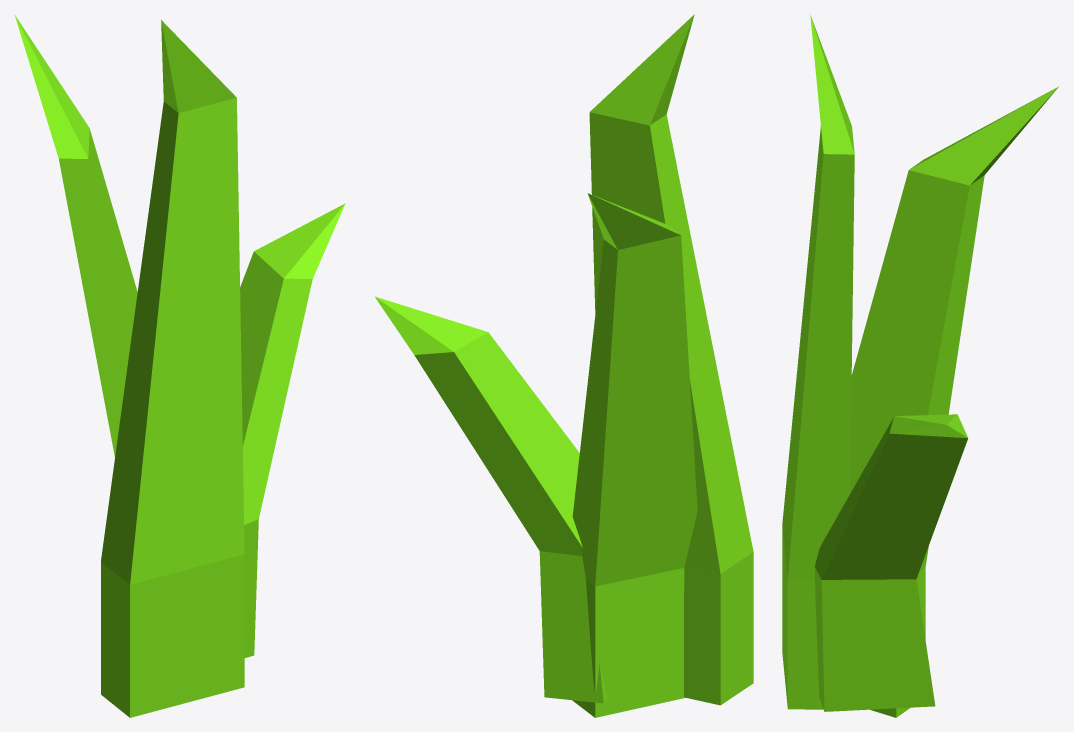
File: Gras.obj
3 renders of one model, left to right at view 1: azimuth 30°, elevation 25°; view 2: azimuth 150°, elevation 25°; view 3: azimuth 270°, elevation 25°, orthographic. The views are drawn at different scales.
Visible parts, largest first — view 1: Grass_2.010_Cube.041; view 2: Grass_2.010_Cube.041; view 3: Grass_2.010_Cube.041.
Boxes of the visible parts, x1,y1,x2,y2 form: Grass_2.010_Cube.041: (14,15,345,717); Grass_2.010_Cube.041: (375,14,753,717); Grass_2.010_Cube.041: (782,15,1058,717).
Bounding box in the file's own units: 0.2043 × 0.4426 × 0.1676.
Materials: 1 (1 with a texture image).
